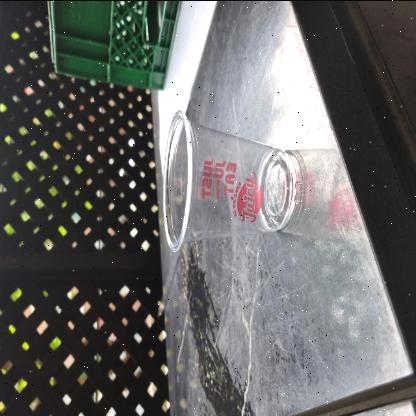Others: (164, 111, 300, 249)
